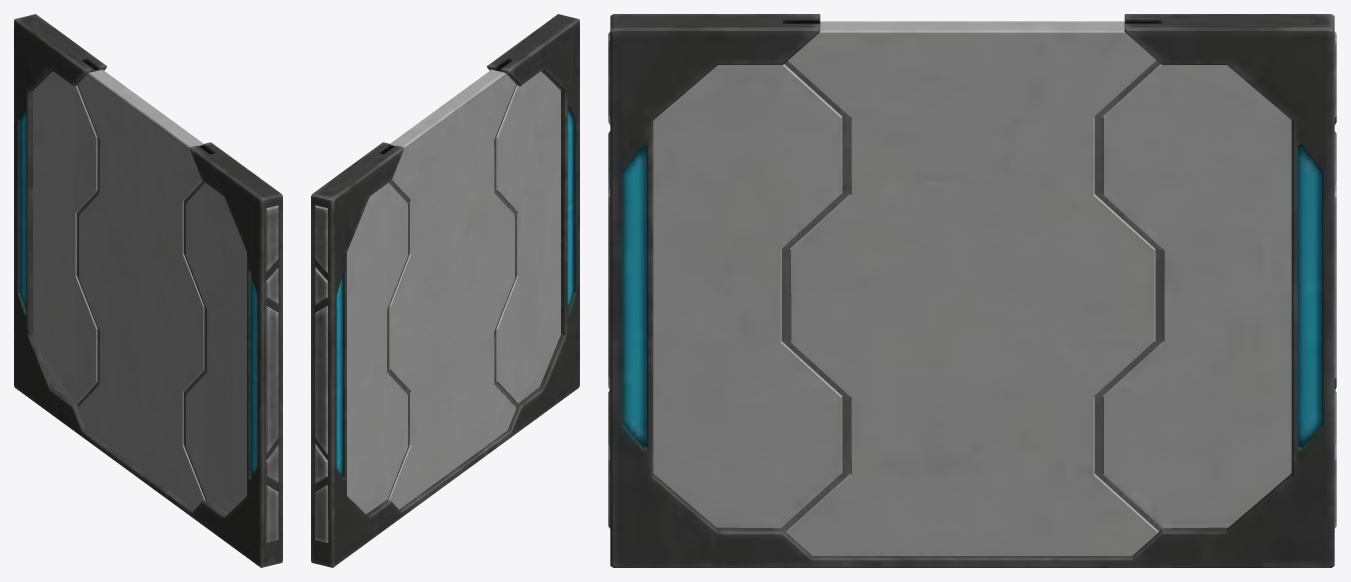
File: SM_wall_Ancient_fe7a65.glb
3 renders of one model, left to right at view 1: azimuth 30°, elevation 25°; view 2: azimuth 150°, elevation 25°; view 3: azimuth 270°, elevation 25°, orthographic. The views are drawn at different scales.
Size of the model in its own units: 0.2107 by 3.29 by 4.02.
1 material, 1 textured.
